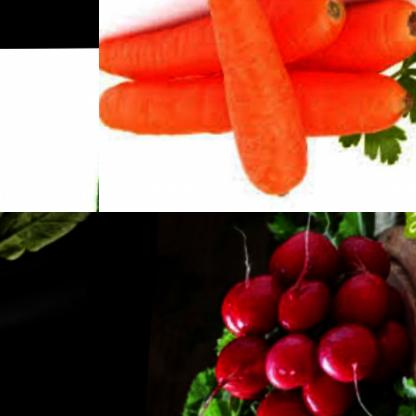carrot: (177, 0, 336, 207), (99, 0, 416, 82), (99, 63, 416, 144), (99, 0, 346, 85)
rediska: (270, 222, 346, 287), (316, 318, 383, 388), (212, 333, 276, 405), (218, 267, 280, 340), (324, 269, 394, 328), (365, 313, 416, 388), (277, 270, 336, 333), (265, 330, 325, 390), (331, 231, 399, 280), (300, 367, 360, 416), (258, 386, 324, 416)
